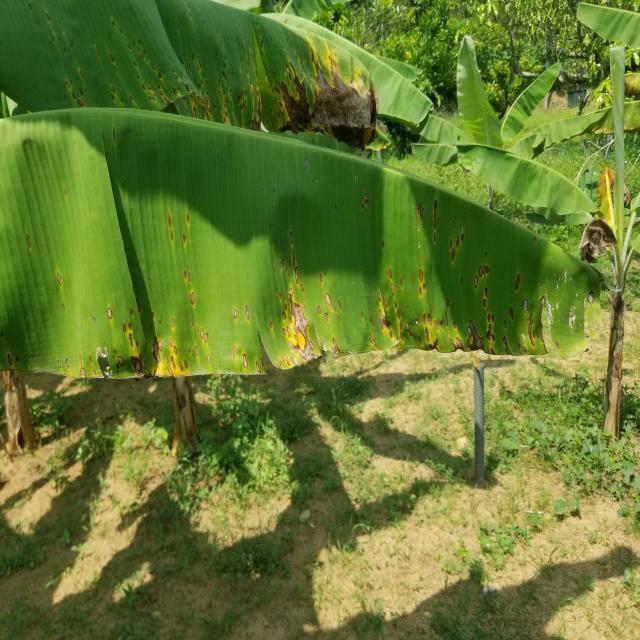Early_rust: (8, 158, 640, 392), (18, 0, 448, 171), (567, 44, 640, 116)
